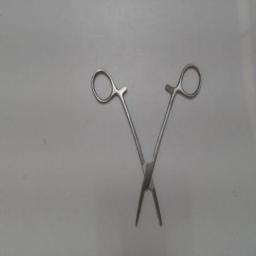Mayo Needle Holder: (88, 59, 206, 233)
